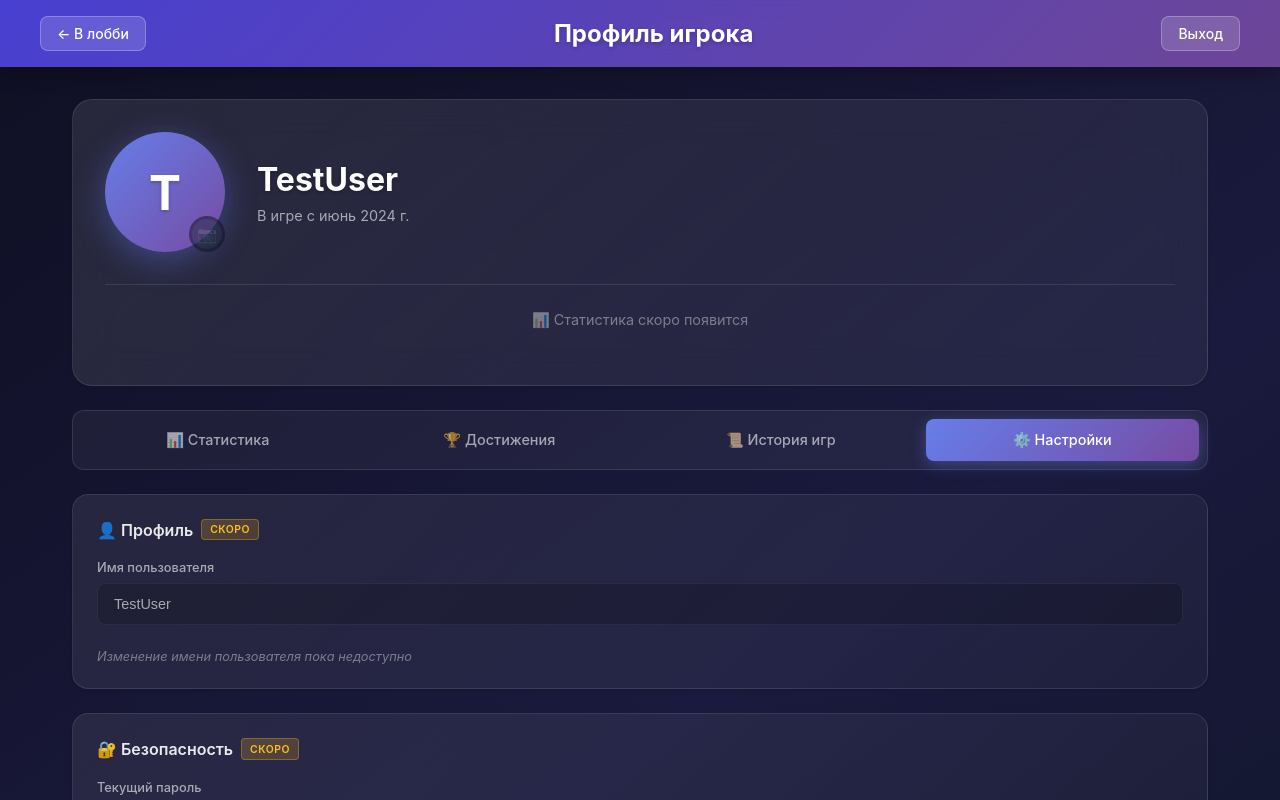
Test case: ProfilePage › переключается на таб достижений
Click the button "🏆 Достижения": (499, 440) [362,419,636,461]
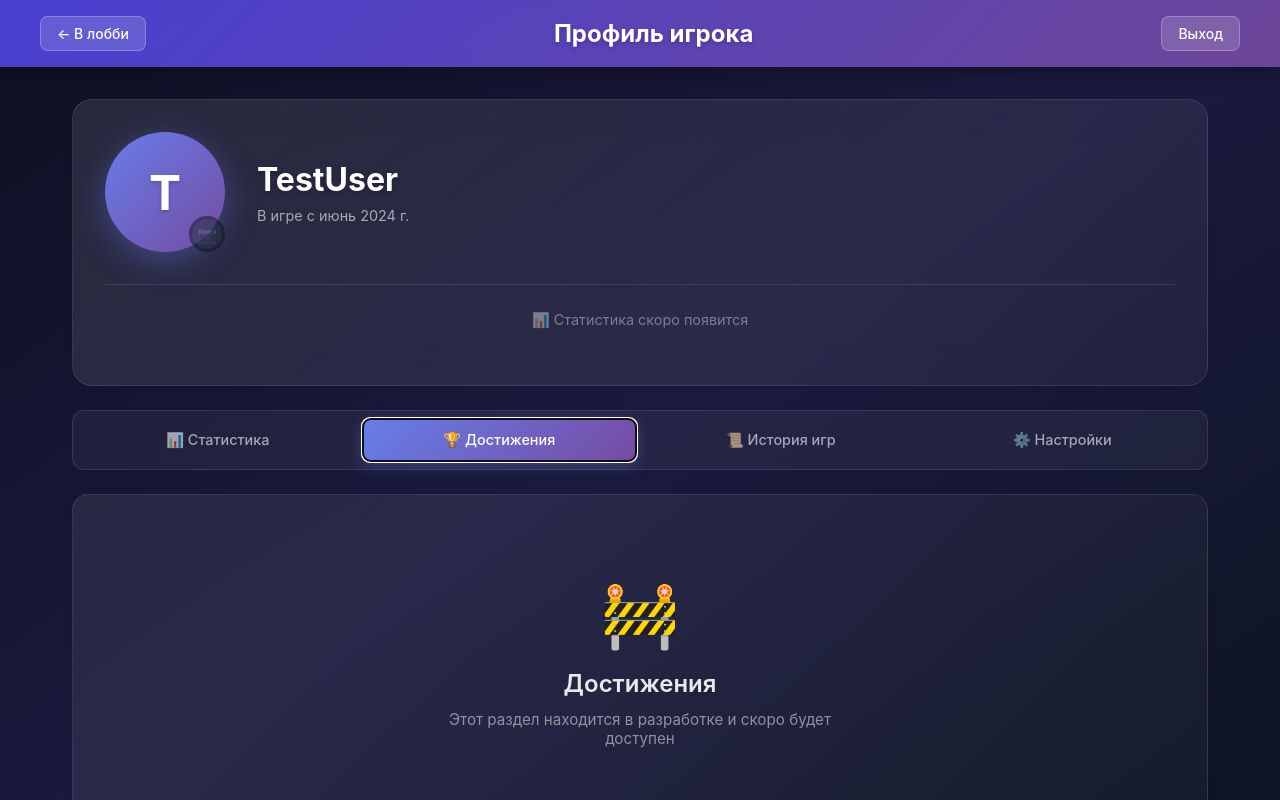
Now the text "Этот раздел находится в разработке и скоро будет доступен" is shown, box [440,710,840,748]
